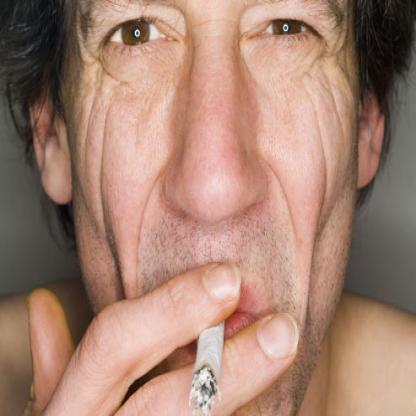smoking: (188, 304, 226, 415)
